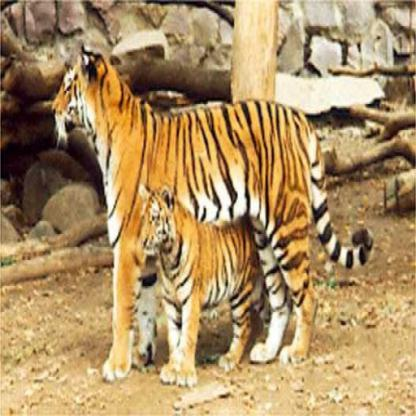Tiger: (41, 36, 353, 373), (113, 179, 274, 389)
